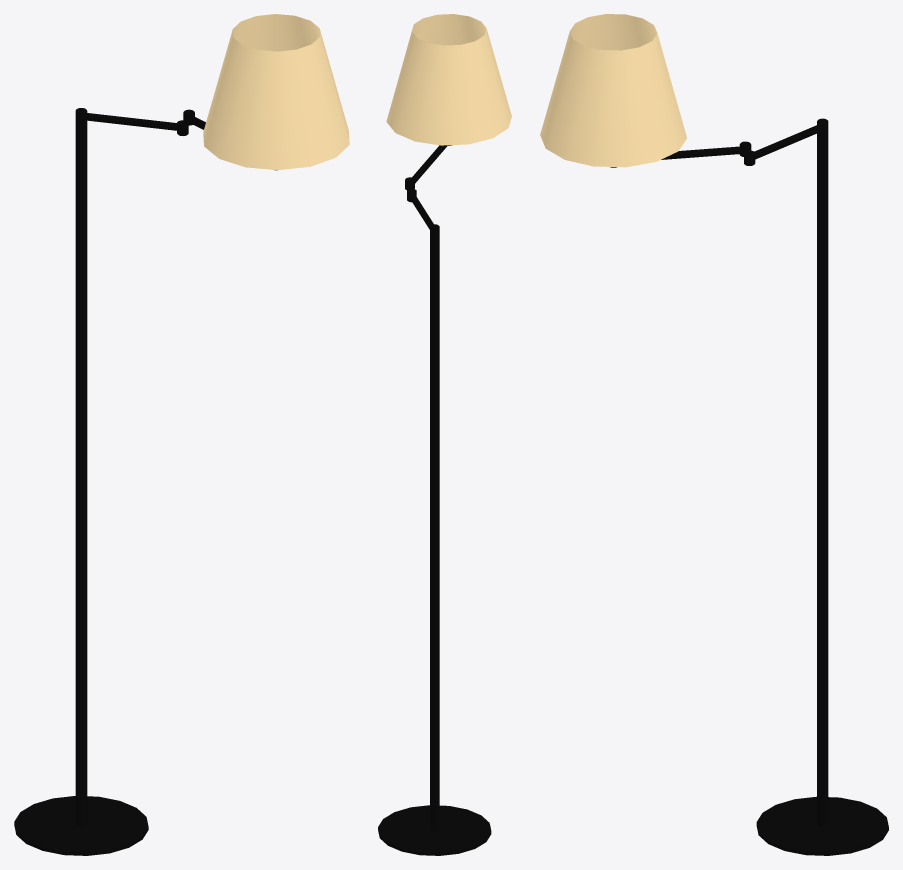
Rendered from light.glb.
The picture shows the model from 3 angles, left to right: view 1: azimuth 30°, elevation 25°; view 2: azimuth 150°, elevation 25°; view 3: azimuth 270°, elevation 25°; orthographic projection. The views are drawn at different scales.
Parts seen in each view (by area): view 1: Object004_Stand_Light_0, Cylinder001_Stand_Light_0; view 2: Object004_Stand_Light_0, Cylinder001_Stand_Light_0; view 3: Object004_Stand_Light_0, Cylinder001_Stand_Light_0.
Part boxes in pixels (x1,y1,x2,y2): Object004_Stand_Light_0: [183, 14, 349, 170]; Cylinder001_Stand_Light_0: [14, 108, 188, 855]; Object004_Stand_Light_0: [386, 14, 511, 190]; Cylinder001_Stand_Light_0: [378, 189, 491, 855]; Object004_Stand_Light_0: [540, 14, 751, 167]; Cylinder001_Stand_Light_0: [744, 118, 888, 855].
Size of the model in its own units: 0.8845 by 3.41 by 1.29.
Materials: 1 (1 with a texture image).
